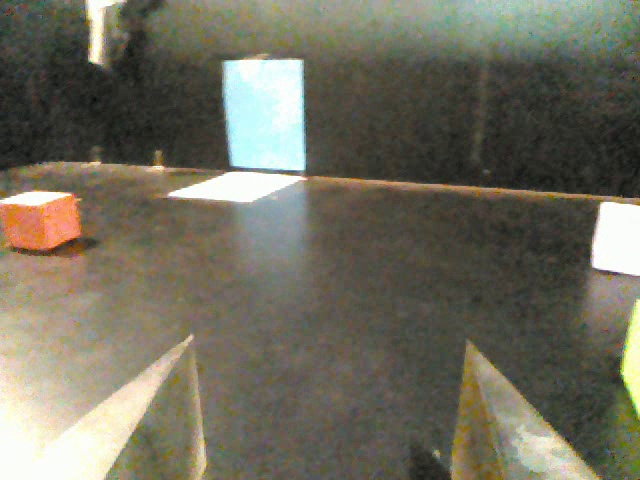cube: (0, 187, 84, 254), (588, 199, 640, 279), (618, 296, 640, 417)
